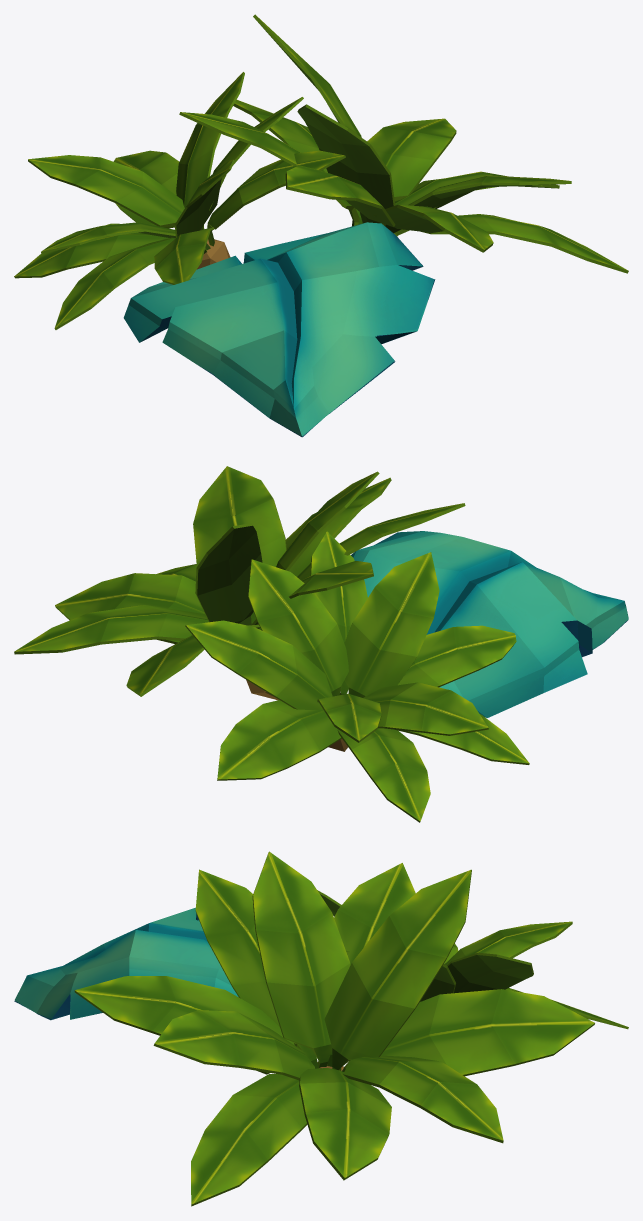
Rendered from Bush02.fbx.
3 renders of one model, top to bottom at view 1: azimuth 30°, elevation 25°; view 2: azimuth 150°, elevation 25°; view 3: azimuth 270°, elevation 25°, orthographic. The views are drawn at different scales.
Visible parts, largest first — view 1: Icosphere.002; view 2: Icosphere.002; view 3: Icosphere.002.
Part boxes in pixels (x1,y1,x2,y2): Icosphere.002: (14,14,628,437); Icosphere.002: (14,466,628,822); Icosphere.002: (14,851,628,1206).
Bounding box in the file's own units: 134 × 68.39 × 142.
